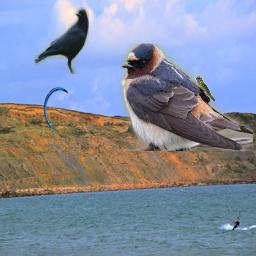Crow: (34, 7, 89, 74)
Sparrow: (195, 76, 215, 101)
Swallow: (121, 43, 253, 151)
